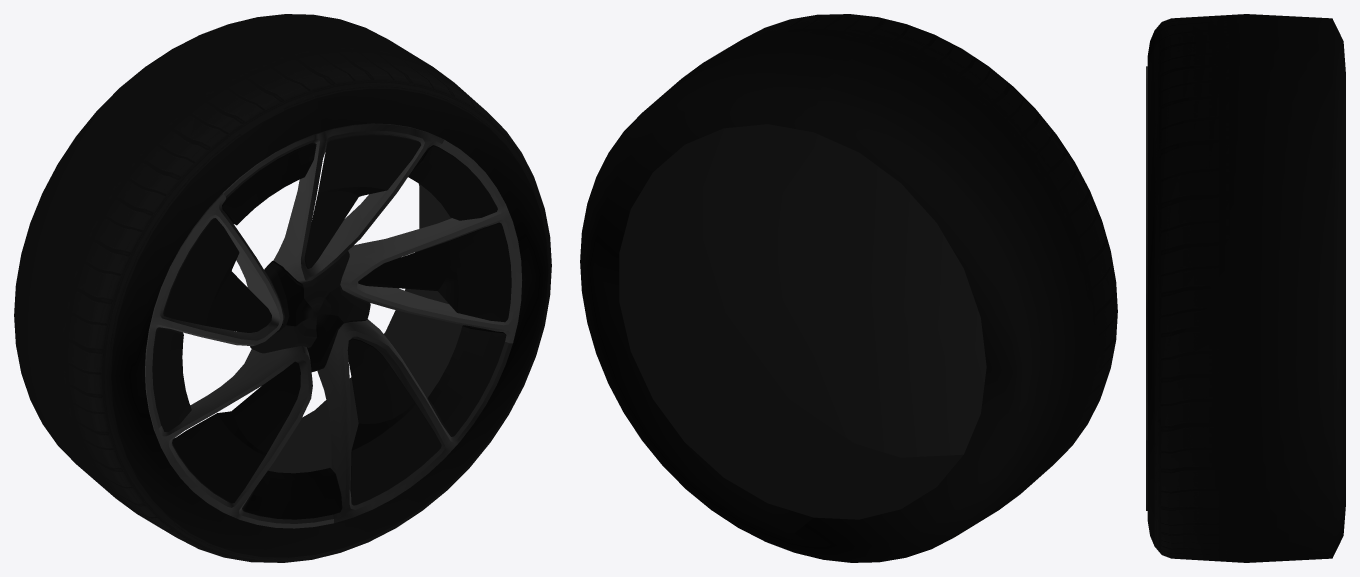
The model's file is Wishbone_20.glb.
The picture shows the model from 3 angles, left to right: view 1: azimuth 30°, elevation 25°; view 2: azimuth 150°, elevation 25°; view 3: azimuth 270°, elevation 25°; orthographic projection. The views are drawn at different scales.
Parts seen in each view (by area): view 1: Wheel_Wishbone_20; view 2: Wheel_Wishbone_20; view 3: Wheel_Wishbone_20.
Boxes of the visible parts, x1=… form: Wheel_Wishbone_20: x1=14, y1=14, x2=551, y2=562; Wheel_Wishbone_20: x1=580, y1=14, x2=1117, y2=562; Wheel_Wishbone_20: x1=1146, y1=14, x2=1345, y2=562.
Size of the model in its own units: 0.6735 by 0.6722 by 0.2451.
2 materials, 2 textured.
